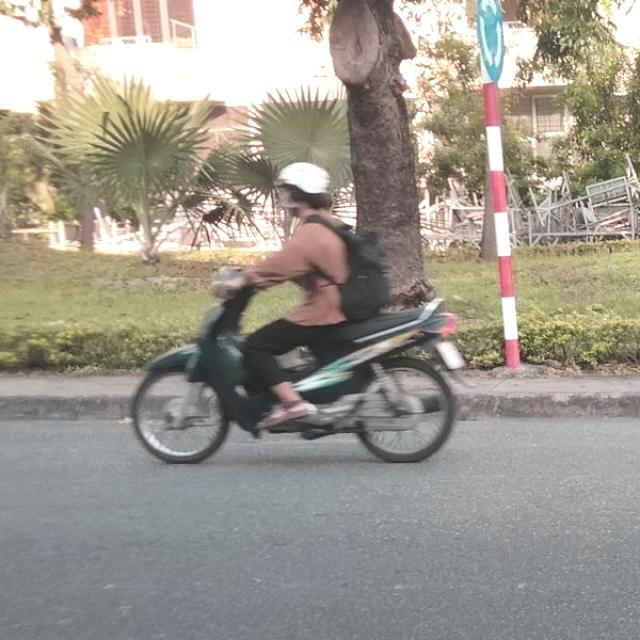Helmet: (274, 158, 332, 220)
